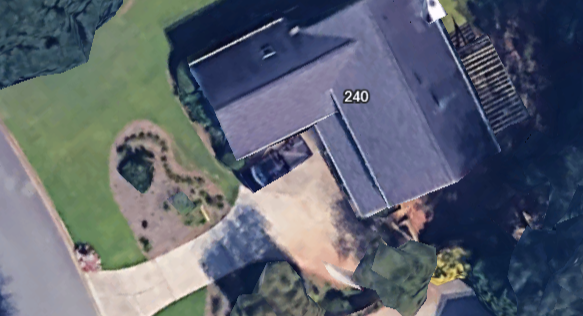driveway: (72, 132, 379, 316)
